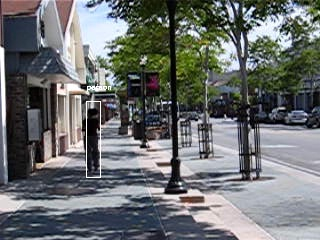person: (82, 108, 102, 172), (81, 108, 101, 172), (83, 108, 103, 172), (82, 107, 102, 171), (82, 109, 102, 173)
target_negative: (29, 24, 254, 62), (172, 190, 265, 218), (55, 165, 145, 175), (278, 187, 306, 205), (299, 218, 310, 236), (305, 230, 316, 238)
